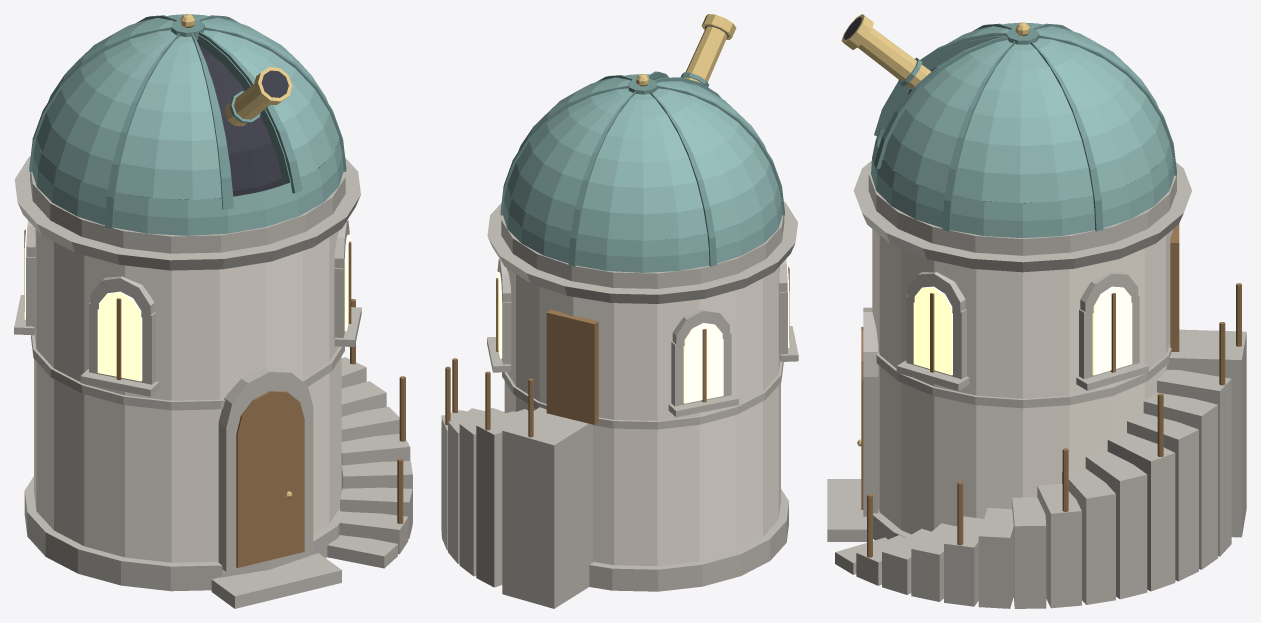
The model's file is observatory.gltf.
3 renders of one model, left to right at view 1: azimuth 30°, elevation 25°; view 2: azimuth 150°, elevation 25°; view 3: azimuth 270°, elevation 25°, orthographic. The views are drawn at different scales.
Parts seen in each view (by area): view 1: Observatory; view 2: Observatory; view 3: Observatory.
Part boxes in pixels (x1,y1,x2,y2): Observatory: (14, 14, 412, 608); Observatory: (441, 14, 798, 608); Observatory: (827, 14, 1246, 608).
Size of the model in its own units: 5.16 by 7.34 by 5.57.
